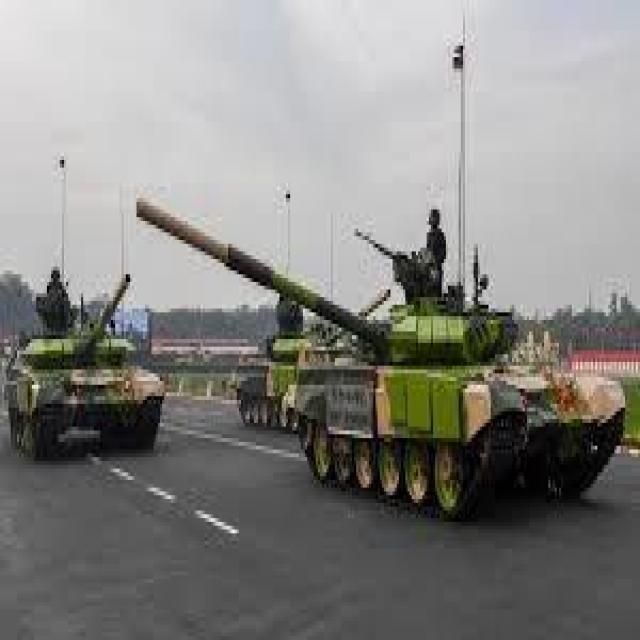Tanks: (129, 187, 620, 514), (8, 276, 163, 440), (228, 310, 290, 425)
